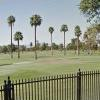Palm tree: (4, 7, 71, 61)
